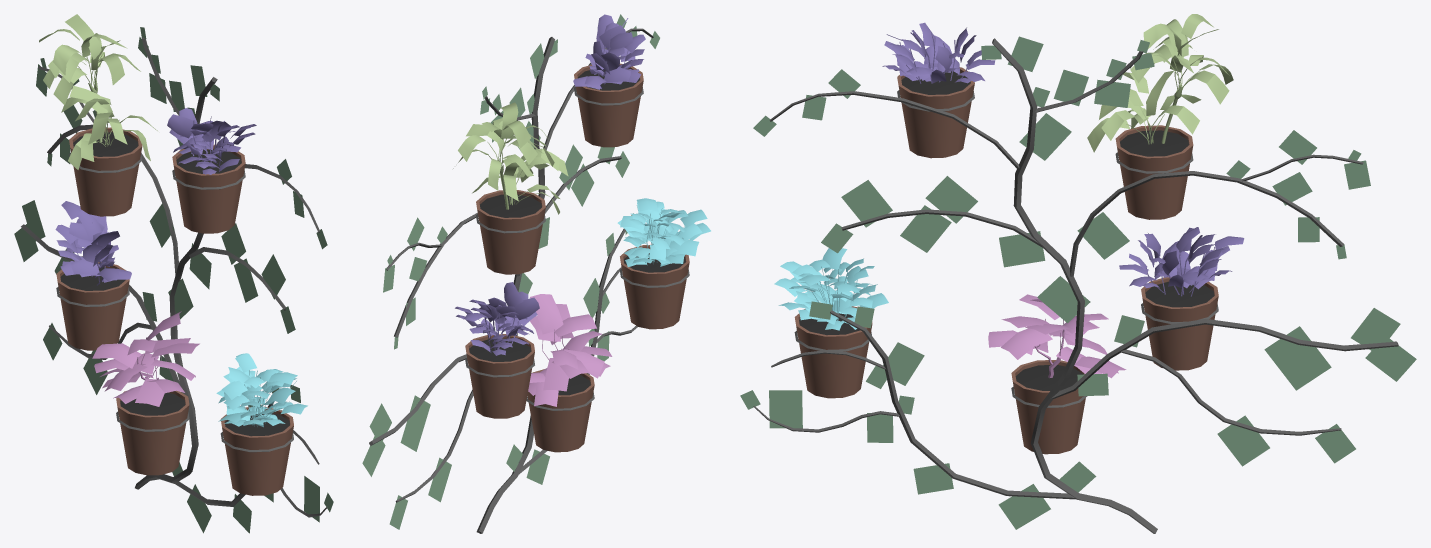
File: MetalSideFlower.FBX
The picture shows the model from 3 angles, left to right: view 1: azimuth 30°, elevation 25°; view 2: azimuth 150°, elevation 25°; view 3: azimuth 270°, elevation 25°; orthographic projection. The views are drawn at different scales.
Visible parts, largest first — view 1: MetalSideFlower; view 2: MetalSideFlower; view 3: MetalSideFlower.
Part boxes in pixels (x1=…): MetalSideFlower: x1=14, y1=14, x2=333, y2=533; MetalSideFlower: x1=362, y1=14, x2=710, y2=533; MetalSideFlower: x1=740, y1=14, x2=1416, y2=533.
Bounding box in the file's own units: 24.15 × 157 × 128.
